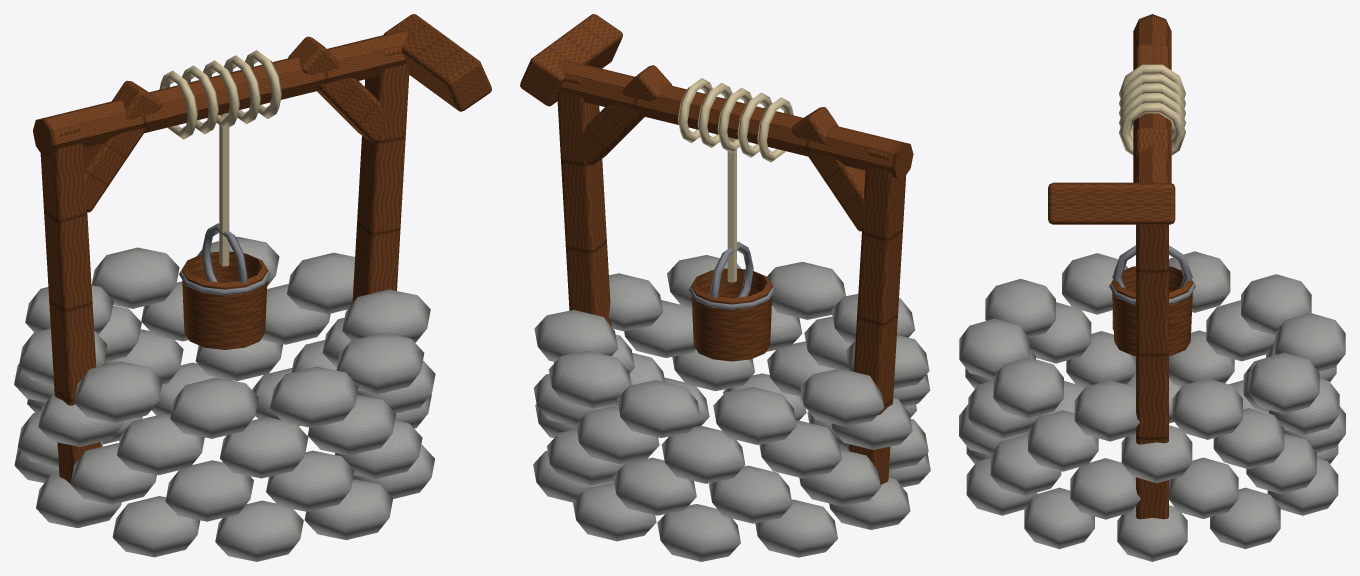
File: viking-age-longhouse-and-longship-stone-well-7337c48b__30183.glb
The picture shows the model from 3 angles, left to right: view 1: azimuth 30°, elevation 25°; view 2: azimuth 150°, elevation 25°; view 3: azimuth 270°, elevation 25°; orthographic projection. The views are drawn at different scales.
Visible parts, largest first — view 1: stone-well; view 2: stone-well; view 3: stone-well.
Part boxes in pixels (bbox=[...]): stone-well: bbox=[14, 14, 491, 561]; stone-well: bbox=[520, 14, 930, 561]; stone-well: bbox=[959, 14, 1345, 561].
Size of the model in its own units: 1.73 by 1.74 by 1.52.
4 materials, 2 textured.
